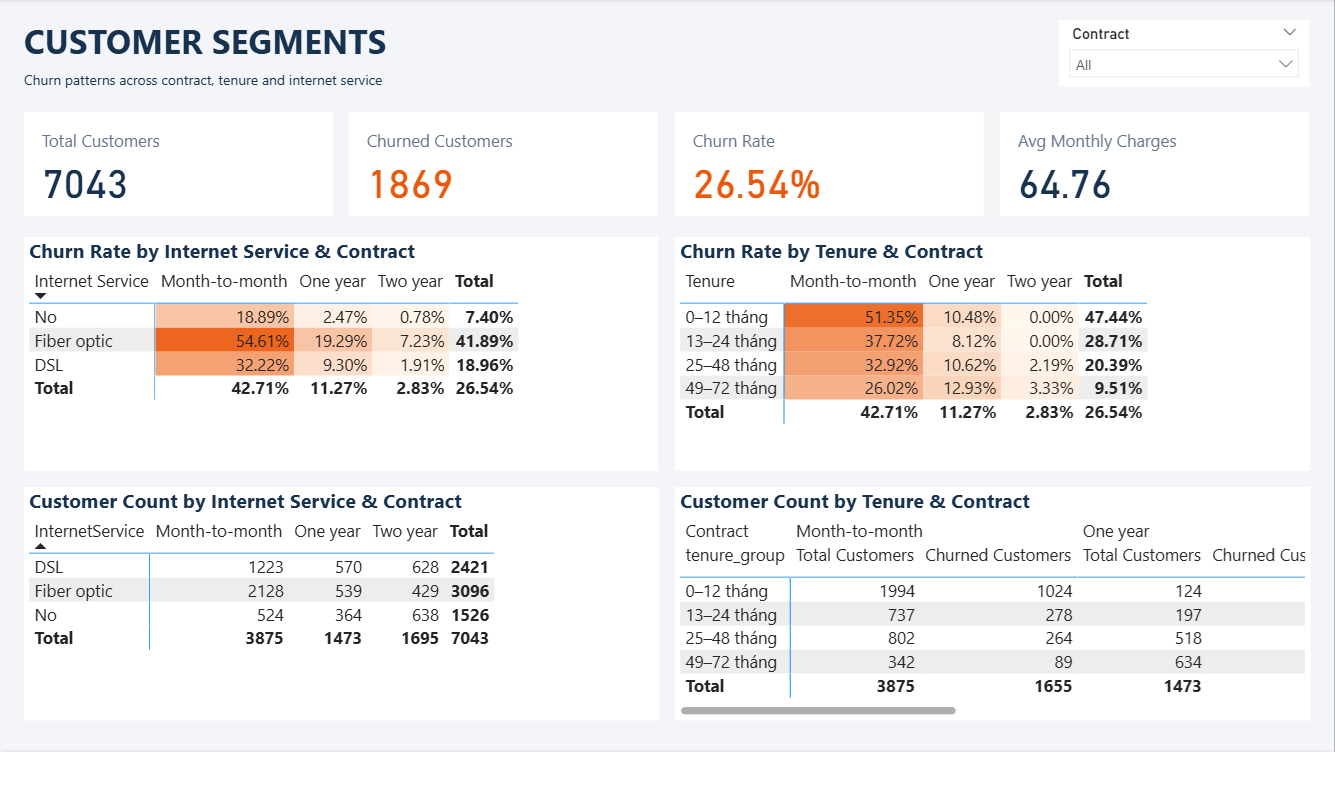

The page's visual inventory and layout, read from the dashboard file:
{"tool":"powerbi","page":{"name":"Customer Segments","canvas":[1280,720],"ordinal":1},"visuals":[{"type":"cardVisual","fields":{"Data":["Customers.Total Customers"]},"box":[24,108,296,100],"z":0},{"type":"cardVisual","fields":{"Data":["Customers.Churned Customers"]},"box":[336,108,296,100],"z":1000},{"type":"cardVisual","fields":{"Data":["Customers.Churn Rate"]},"box":[648,108,296,100],"z":2000},{"type":"cardVisual","fields":{"Data":["Customers.Avg Monthly Charges"]},"box":[960,108,296,100],"z":3000},{"type":"slicer","fields":{"Values":["Customers.Contract"]},"box":[1016,20,240,64.2],"z":4000},{"type":"shape","box":[24,16,850,44],"z":5000},{"type":"shape","box":[24,62,850,28],"z":6000},{"type":"pivotTable","title":"Churn Rate by Internet Service & Contract","fields":{"Rows":["Customers.InternetService"],"Columns":["Customers.Contract"],"Values":["Customers.Churn Rate"]},"box":[24,228,608,224],"z":7000},{"type":"pivotTable","title":"Churn Rate by Tenure & Contract","fields":{"Columns":["Customers.Contract"],"Values":["Customers.Churn Rate"],"Rows":["Customers.tenure_group"]},"box":[648.1,228.2,608.8,224.4],"z":8000},{"type":"pivotTable","title":"Customer Count by Internet Service & Contract","fields":{"Rows":["Customers.InternetService"],"Columns":["Customers.Contract"],"Values":["Customers.Total Customers"]},"box":[24,468,608.8,224.4],"z":9000},{"type":"pivotTable","title":"Customer Count by Tenure & Contract","fields":{"Columns":["Customers.Contract"],"Values":["Customers.Total Customers","Customers.Churned Customers"],"Rows":["Customers.tenure_group"]},"box":[648.1,468,608.8,224.4],"z":10000}]}

Visuals, with their boxes on the page's 1280x720 design canvas (x1, y1, x2, y2). These are canvas units, not pixel positions in the 1335x787 screenshot, which may show the page scaled, cropped or inside an application window:
cardVisual - Customers.Total Customers: crop(24, 108, 320, 208)
cardVisual - Customers.Churned Customers: crop(336, 108, 632, 208)
cardVisual - Customers.Churn Rate: crop(648, 108, 944, 208)
cardVisual - Customers.Avg Monthly Charges: crop(960, 108, 1256, 208)
slicer - Customers.Contract: crop(1016, 20, 1256, 84)
shape: crop(24, 16, 874, 60)
shape: crop(24, 62, 874, 90)
"Churn Rate by Internet Service & Contract" pivotTable: crop(24, 228, 632, 452)
"Churn Rate by Tenure & Contract" pivotTable: crop(648, 228, 1257, 453)
"Customer Count by Internet Service & Contract" pivotTable: crop(24, 468, 633, 692)
"Customer Count by Tenure & Contract" pivotTable: crop(648, 468, 1257, 692)
